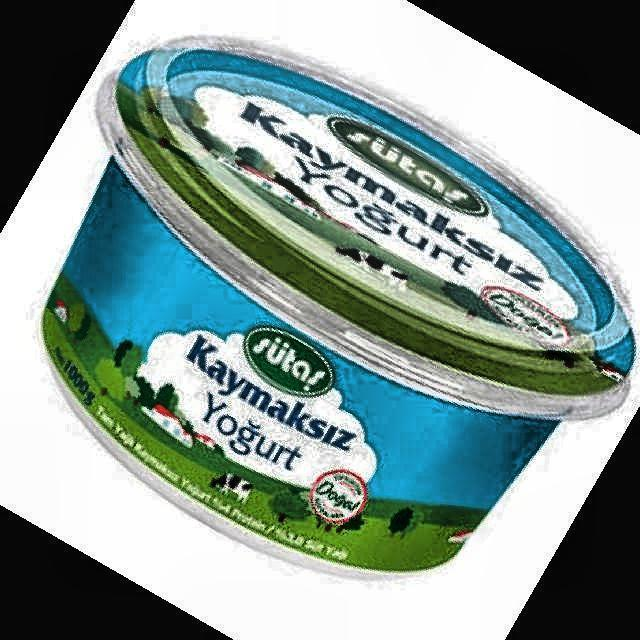plastic: (44, 41, 635, 572)
